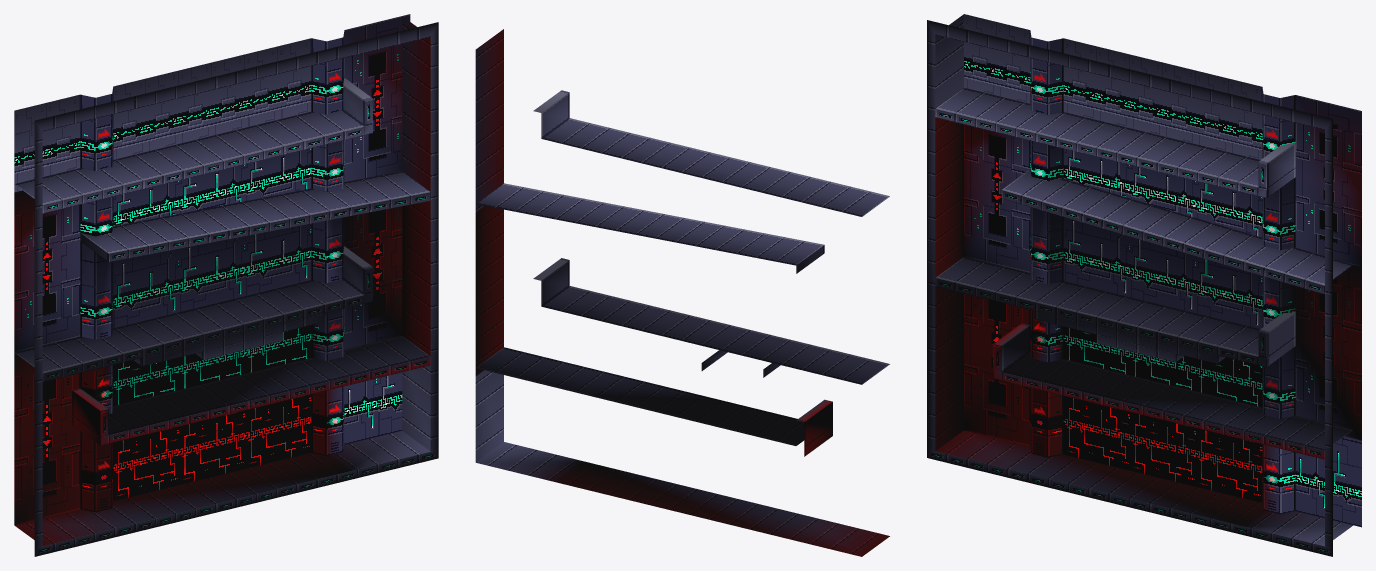
Rendered from RaceToTheFinish.glb.
3 views of the same model, side by side, from view 1: azimuth 30°, elevation 25°; view 2: azimuth 150°, elevation 25°; view 3: azimuth 330°, elevation 25° (orthographic).
Parts seen in each view (by area): view 1: RaceToTheFinish_1, RaceToTheFinish_13, RaceToTheFinish_Alpha_26, RaceToTheFinish_0, RaceToTheFinish_Alpha_35, RaceToTheFinish_3, RaceToTheFinish_2, RaceToTheFinish_11, RaceToTheFinish_15, RaceToTheFinish_Alpha_27, RaceToTheFinish_Alpha_25, RaceToTheFinish_12 (+1 smaller); view 2: RaceToTheFinish_13, RaceToTheFinish_Alpha_26, RaceToTheFinish_15, RaceToTheFinish_12; view 3: RaceToTheFinish_1, RaceToTheFinish_13, RaceToTheFinish_Alpha_26, RaceToTheFinish_0, RaceToTheFinish_Alpha_35, RaceToTheFinish_3, RaceToTheFinish_2, RaceToTheFinish_15, RaceToTheFinish_11, RaceToTheFinish_Alpha_27, RaceToTheFinish_Alpha_25, RaceToTheFinish_12 (+1 smaller).
Boxes of the visible parts, x1=… form: RaceToTheFinish_1: x1=14, y1=14, x2=410, y2=525; RaceToTheFinish_13: x1=14, y1=111, x2=430, y2=434; RaceToTheFinish_Alpha_26: x1=14, y1=16, x2=438, y2=547; RaceToTheFinish_0: x1=113, y1=148, x2=402, y2=444; RaceToTheFinish_Alpha_35: x1=80, y1=32, x2=344, y2=512; RaceToTheFinish_3: x1=113, y1=325, x2=311, y2=500; RaceToTheFinish_2: x1=14, y1=38, x2=311, y2=192; RaceToTheFinish_11: x1=42, y1=126, x2=430, y2=443; RaceToTheFinish_15: x1=81, y1=171, x2=430, y2=253; RaceToTheFinish_Alpha_27: x1=35, y1=22, x2=438, y2=131; RaceToTheFinish_Alpha_25: x1=34, y1=450, x2=438, y2=556; RaceToTheFinish_12: x1=72, y1=78, x2=372, y2=445; RaceToTheFinish_13: x1=476, y1=118, x2=889, y2=445; RaceToTheFinish_Alpha_26: x1=475, y1=29, x2=889, y2=556; RaceToTheFinish_15: x1=476, y1=183, x2=824, y2=265; RaceToTheFinish_12: x1=533, y1=90, x2=832, y2=456; RaceToTheFinish_1: x1=964, y1=95, x2=1361, y2=446; RaceToTheFinish_13: x1=935, y1=87, x2=1352, y2=450; RaceToTheFinish_Alpha_26: x1=927, y1=14, x2=1352, y2=548; RaceToTheFinish_0: x1=1063, y1=149, x2=1361, y2=527; RaceToTheFinish_Alpha_35: x1=1030, y1=31, x2=1295, y2=514; RaceToTheFinish_3: x1=1063, y1=326, x2=1262, y2=502; RaceToTheFinish_2: x1=964, y1=14, x2=1262, y2=159; RaceToTheFinish_15: x1=1002, y1=169, x2=1352, y2=285; RaceToTheFinish_11: x1=935, y1=109, x2=1324, y2=459; RaceToTheFinish_Alpha_27: x1=927, y1=20, x2=1332, y2=129; RaceToTheFinish_Alpha_25: x1=927, y1=449, x2=1332, y2=556; RaceToTheFinish_12: x1=993, y1=142, x2=1295, y2=380.
Size of the model in its own units: 1852 by 1894 by 225.
Materials: 36 (36 with a texture image).
